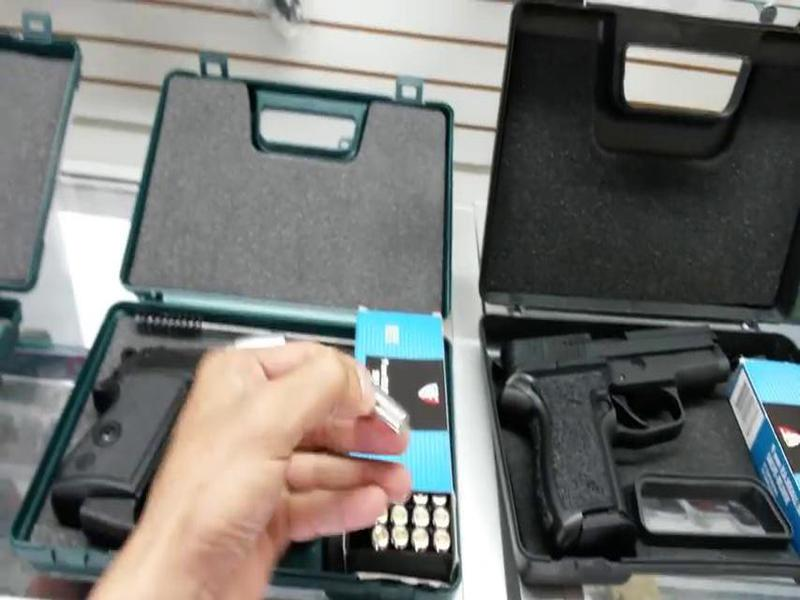Pistola: (478, 305, 734, 548)
